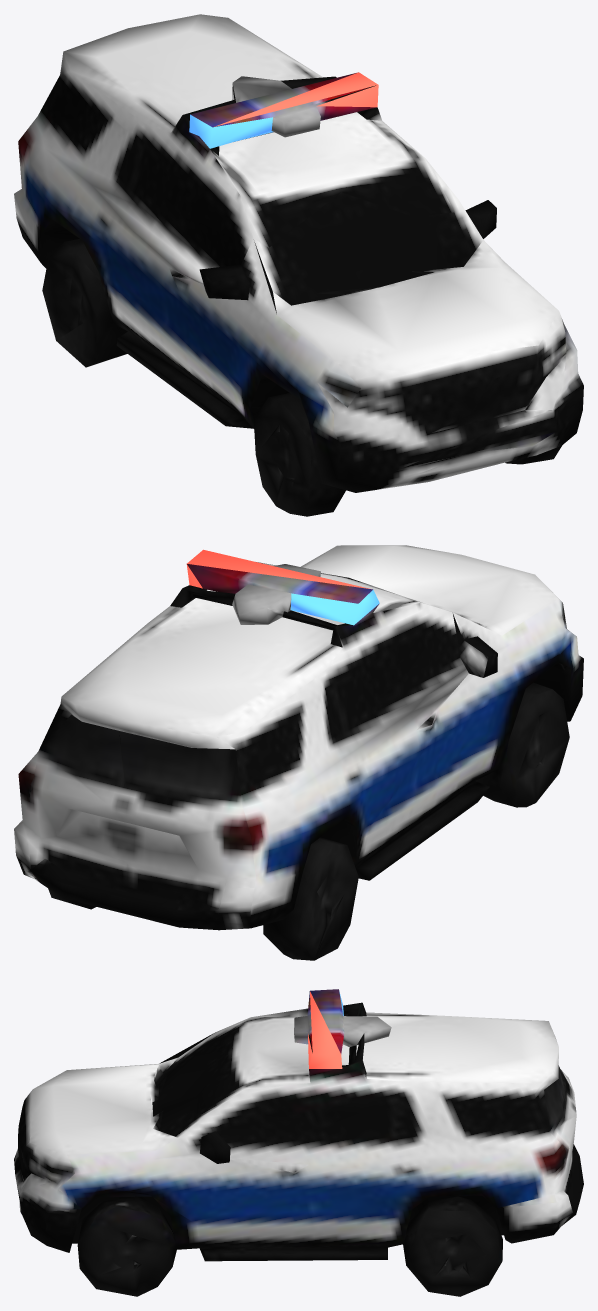
The model's file is police_suv.glb.
3 views of the same model, one above another, from view 1: azimuth 30°, elevation 25°; view 2: azimuth 150°, elevation 25°; view 3: azimuth 270°, elevation 25° (orthographic). The views are drawn at different scales.
Parts seen in each view (by area): view 1: police_suv, police_suv_lightbar_red, police_suv_lightbar_blue; view 2: police_suv, police_suv_lightbar_red, police_suv_lightbar_blue; view 3: police_suv, police_suv_lightbar_red.
Boxes of the visible parts, x1,y1,x2,y2 form: police_suv: [14, 14, 583, 516]; police_suv_lightbar_red: [214, 72, 378, 126]; police_suv_lightbar_blue: [189, 114, 273, 148]; police_suv: [14, 545, 583, 960]; police_suv_lightbar_red: [186, 549, 371, 589]; police_suv_lightbar_blue: [290, 590, 379, 625]; police_suv: [14, 989, 583, 1296]; police_suv_lightbar_red: [308, 991, 342, 1068].
Bounding box in the file's own units: 2.35 × 2.28 × 5.14.
3 materials, 1 textured.
